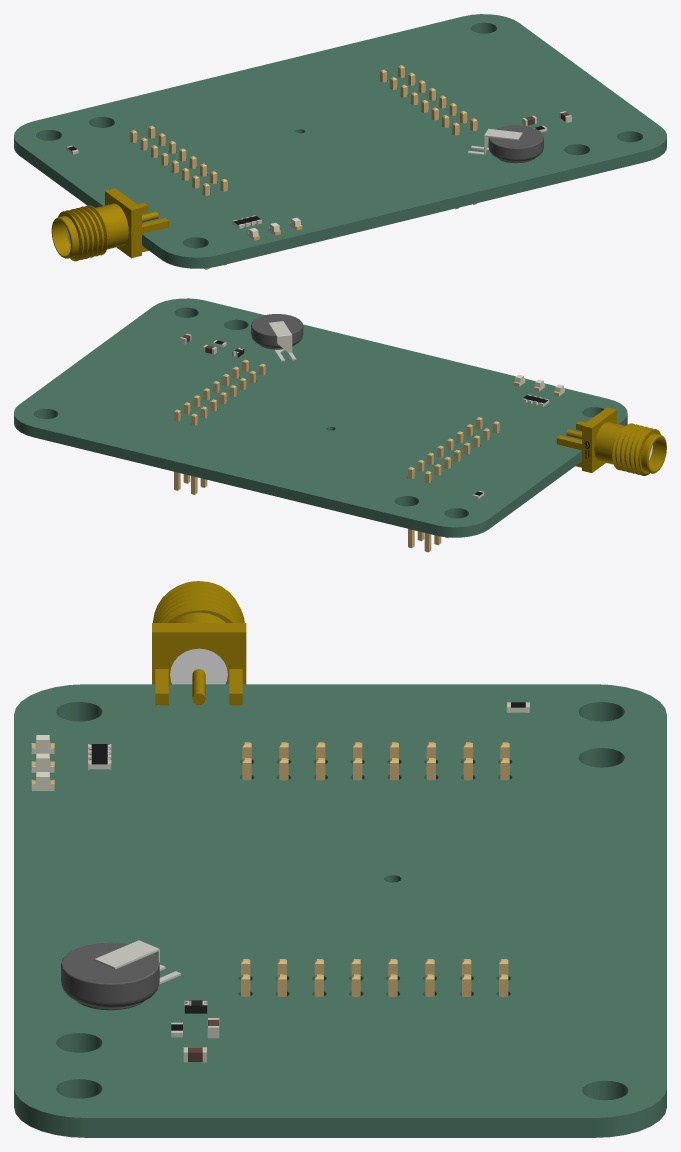
Rendered from BACKPACK.glb.
3 views of the same model, one above another, from view 1: azimuth 30°, elevation 25°; view 2: azimuth 150°, elevation 25°; view 3: azimuth 270°, elevation 25° (orthographic). The views are drawn at different scales.
Visible parts, largest first — view 1: =>[0:1:1:10], J4, BT1, J5, J6; view 2: =>[0:1:1:10], J4, J6, J5, BT1; view 3: =>[0:1:1:10], J4, BT1, J5, J6.
Part boxes in pixels (bbox=[...]): =>[0:1:1:10]: bbox=[14, 14, 666, 268]; J4: bbox=[51, 188, 168, 261]; BT1: bbox=[467, 125, 543, 163]; J5: bbox=[380, 65, 477, 209]; J6: bbox=[130, 125, 227, 269]; =>[0:1:1:10]: bbox=[14, 298, 627, 537]; J4: bbox=[556, 407, 666, 475]; J6: bbox=[408, 417, 499, 552]; J5: bbox=[174, 359, 265, 494]; BT1: bbox=[251, 314, 303, 361]; =>[0:1:1:10]: bbox=[14, 684, 666, 1137]; J4: bbox=[152, 581, 246, 705]; BT1: bbox=[61, 940, 180, 1010]; J5: bbox=[241, 959, 508, 996]; J6: bbox=[242, 742, 509, 780].
Size of the model in its own units: 0.0805 by 0.014 by 0.045.
